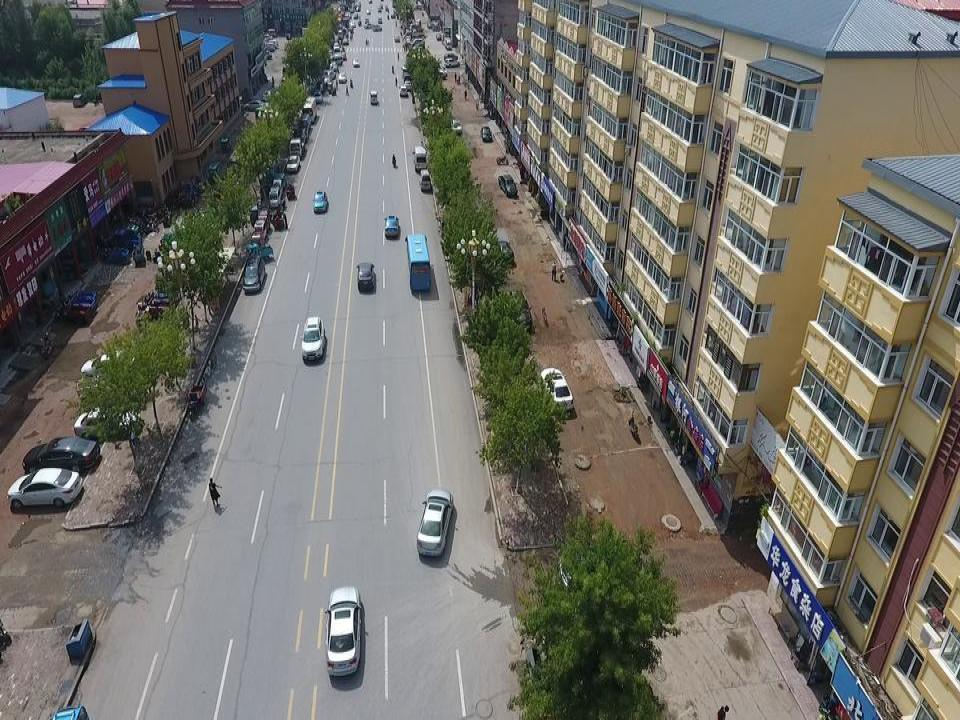bus: (404, 233, 432, 291), (301, 96, 318, 123), (413, 145, 426, 172)
car: (324, 584, 366, 680), (7, 468, 82, 509), (23, 436, 101, 473), (417, 488, 455, 559), (82, 347, 154, 377), (74, 412, 139, 441), (542, 368, 574, 411), (299, 316, 325, 361), (509, 288, 533, 333), (243, 255, 266, 292), (496, 237, 515, 268), (357, 262, 376, 290), (384, 214, 400, 238), (312, 189, 328, 212), (242, 99, 269, 112), (287, 155, 301, 172), (480, 126, 493, 142), (449, 116, 461, 133), (443, 57, 459, 68), (443, 52, 459, 63), (297, 128, 308, 141), (262, 88, 272, 100), (313, 90, 323, 102), (263, 38, 278, 46), (258, 51, 271, 60), (325, 71, 336, 81), (399, 85, 408, 96), (338, 72, 346, 83), (352, 57, 360, 68), (326, 66, 337, 74), (328, 60, 337, 69), (403, 73, 411, 83), (372, 22, 382, 30), (333, 41, 340, 52), (405, 80, 411, 91), (261, 35, 272, 41), (402, 67, 409, 76), (364, 21, 373, 28), (390, 12, 397, 19), (394, 34, 400, 42), (342, 36, 348, 44), (427, 20, 433, 28), (432, 18, 438, 26), (436, 32, 441, 41), (364, 17, 370, 23), (377, 16, 382, 23), (350, 21, 355, 28), (378, 5, 382, 12), (366, 8, 371, 13), (353, 12, 358, 17), (356, 0, 361, 5), (346, 12, 351, 16)
truck: (498, 173, 518, 197), (288, 136, 305, 157), (271, 206, 283, 229), (403, 31, 423, 41), (404, 35, 422, 44), (444, 36, 452, 51), (342, 17, 349, 27)
van: (419, 168, 431, 193), (299, 114, 311, 134), (369, 91, 379, 105), (410, 37, 423, 47), (262, 43, 275, 52), (332, 55, 343, 65), (264, 30, 276, 38), (400, 18, 411, 26), (408, 22, 417, 30), (413, 4, 423, 11), (337, 30, 344, 38), (415, 18, 422, 26), (345, 12, 350, 19)
